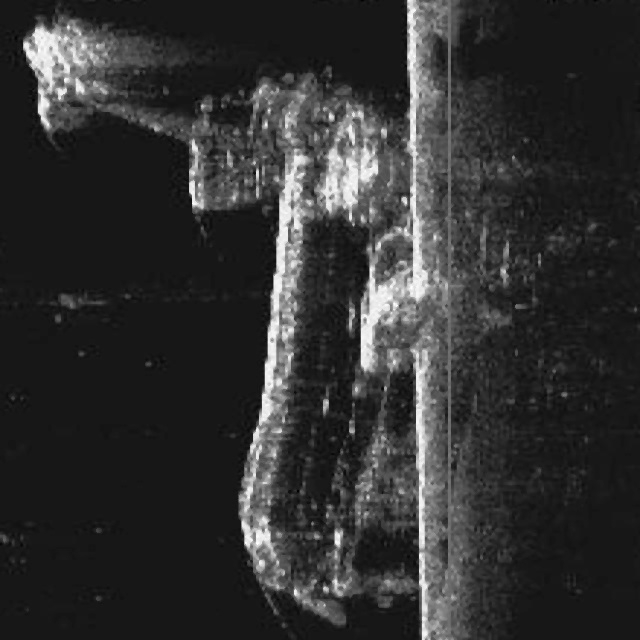Plane: (18, 4, 423, 635)
